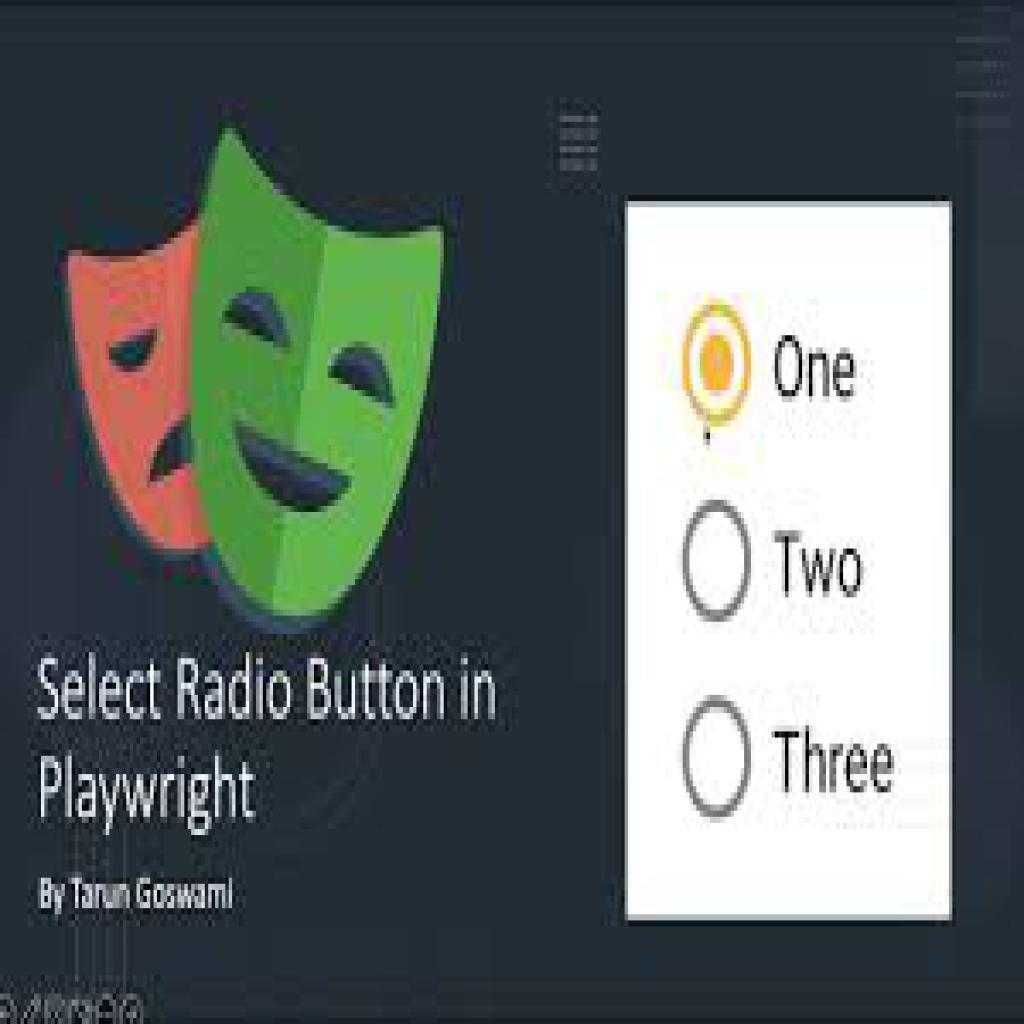label: (776, 715, 901, 807), (773, 524, 870, 610), (767, 330, 866, 403)
radio: (680, 697, 753, 823), (684, 305, 754, 431), (683, 501, 752, 626)
